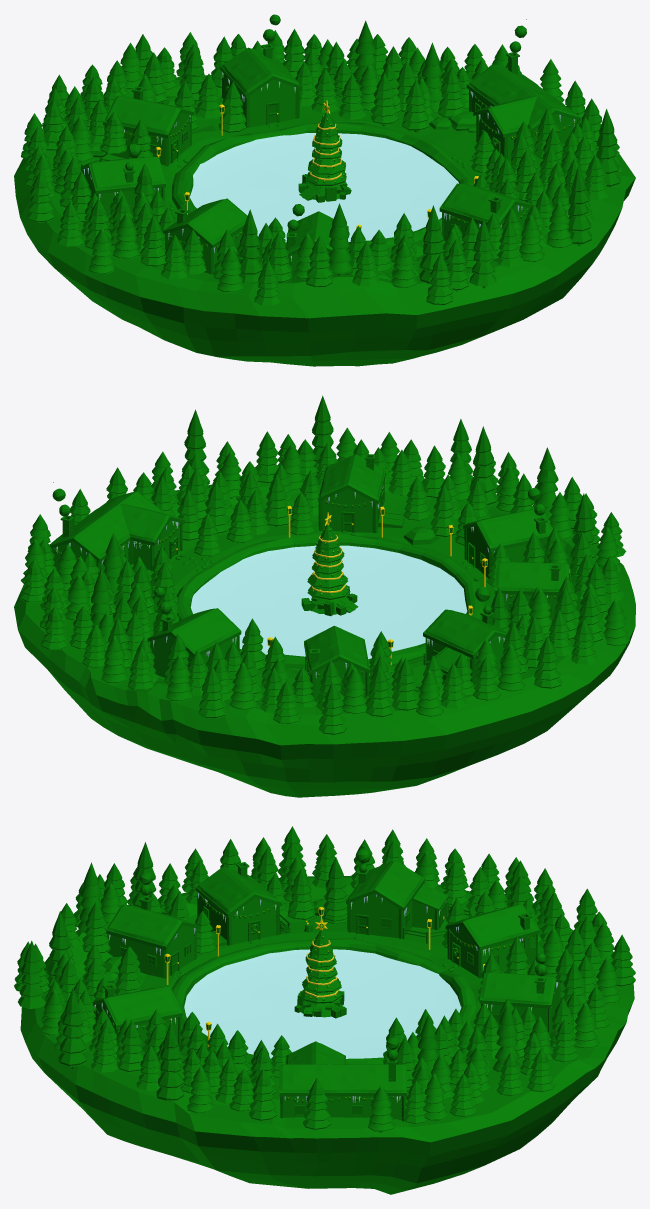
The model's file is Christmas_Low-poly_Scene.glb.
3 renders of one model, top to bottom at view 1: azimuth 30°, elevation 25°; view 2: azimuth 150°, elevation 25°; view 3: azimuth 270°, elevation 25°, orthographic.
Parts seen in each view (by area): view 1: Ground_Snow_0, Ground_Rock_0, Ice_Sheet_phong2_0, Snow_Border_Snow_0, House_7_Snow_0, House_1_Wood_1_0, House_7_Wood_1_0, House_1_Snow_0, House_2_Snow_0, House_5_Snow_0, house_6_Snow_0, Main_Chrimah_Tree_Snow_0 (+63 smaller); view 2: Ground_Snow_0, Ground_Rock_0, Ice_Sheet_phong2_0, Snow_Border_Snow_0, House_7_Snow_0, house_6_Wood_1_0, House_4_Snow_0, House_7_Wood_1_0, House_1_Snow_0, House_5_Snow_0, house_6_Snow_0, House_3_Snow_0 (+66 smaller); view 3: Ground_Snow_0, Ground_Rock_0, Ice_Sheet_phong2_0, Snow_Border_Snow_0, House_7_Snow_0, House_4_Wood_1_0, House_5_Wood_1_0, House_3_Wood_1_0, House_4_Snow_0, House_7_Wood_1_0, House_3_Snow_0, House_2_Wood_1_0 (+51 smaller).
Boxes of the visible parts, bbox=[...] form: Ground_Snow_0: bbox=[14, 75, 635, 318]; Ground_Rock_0: bbox=[20, 178, 635, 366]; Ice_Sheet_phong2_0: bbox=[189, 133, 458, 242]; Snow_Border_Snow_0: bbox=[172, 121, 474, 251]; House_7_Snow_0: bbox=[469, 64, 579, 132]; House_1_Wood_1_0: bbox=[220, 47, 301, 127]; House_7_Wood_1_0: bbox=[466, 64, 581, 160]; House_1_Snow_0: bbox=[222, 48, 299, 92]; House_2_Snow_0: bbox=[105, 96, 191, 133]; House_5_Snow_0: bbox=[165, 199, 247, 243]; house_6_Snow_0: bbox=[442, 183, 530, 222]; Main_Chrimah_Tree_Snow_0: bbox=[306, 113, 346, 185]; Ground_Snow_0: bbox=[14, 478, 635, 745]; Ground_Rock_0: bbox=[18, 628, 634, 797]; Ice_Sheet_phong2_0: bbox=[190, 545, 467, 659]; Snow_Border_Snow_0: bbox=[176, 534, 484, 669]; House_7_Snow_0: bbox=[50, 491, 182, 557]; house_6_Wood_1_0: bbox=[318, 454, 401, 532]; House_4_Snow_0: bbox=[426, 609, 507, 671]; House_7_Wood_1_0: bbox=[49, 511, 185, 573]; House_1_Snow_0: bbox=[150, 608, 238, 652]; House_5_Snow_0: bbox=[495, 561, 568, 591]; house_6_Snow_0: bbox=[319, 455, 384, 498]; House_3_Snow_0: bbox=[465, 509, 552, 547]; Ground_Snow_0: bbox=[20, 876, 634, 1142]; Ground_Rock_0: bbox=[25, 1004, 632, 1194]; Ice_Sheet_phong2_0: bbox=[184, 949, 461, 1058]; Snow_Border_Snow_0: bbox=[171, 938, 476, 1064]; House_7_Snow_0: bbox=[279, 1042, 405, 1092]; House_4_Wood_1_0: bbox=[346, 860, 448, 937]; House_5_Wood_1_0: bbox=[195, 867, 282, 944]; House_3_Wood_1_0: bbox=[105, 905, 199, 977]; House_4_Snow_0: bbox=[348, 861, 447, 906]; House_7_Wood_1_0: bbox=[279, 1041, 406, 1120]; House_3_Snow_0: bbox=[107, 904, 196, 945]; House_2_Wood_1_0: bbox=[445, 905, 539, 977].
Bounding box in the file's own units: 53.25 × 21.9 × 53.38.
